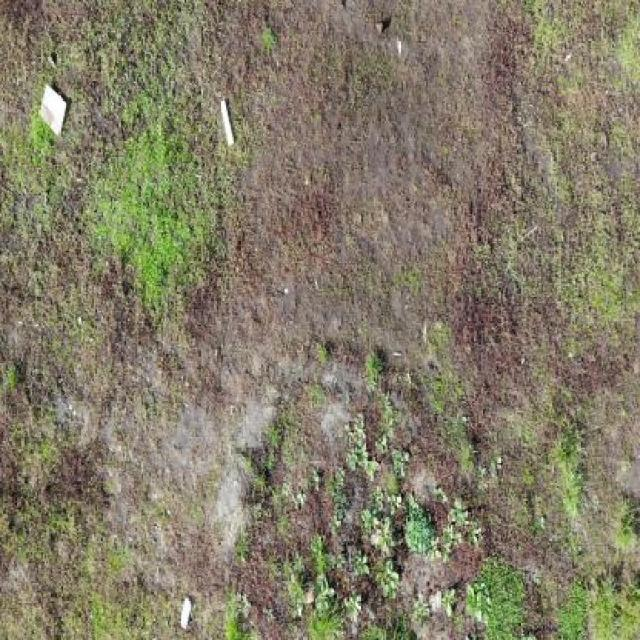Garbage: (37, 84, 68, 136), (218, 97, 236, 145), (178, 596, 193, 631), (284, 286, 289, 294)
